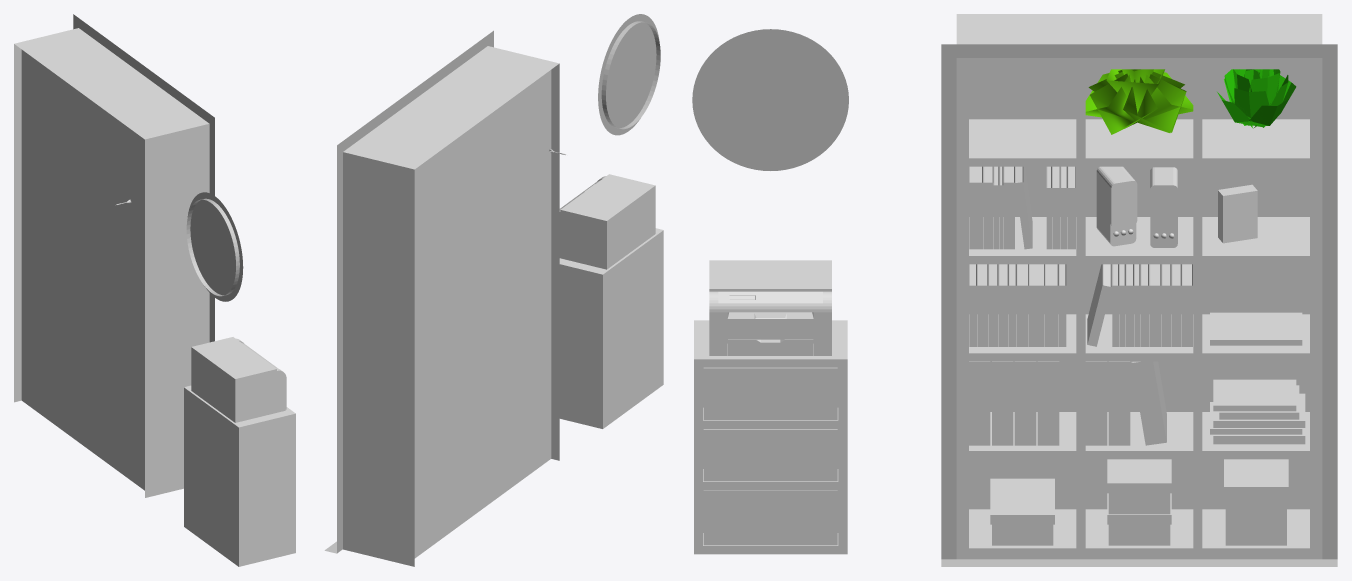
Rendered from Bookshelf.fbx.
3 renders of one model, left to right at view 1: azimuth 30°, elevation 25°; view 2: azimuth 150°, elevation 25°; view 3: azimuth 270°, elevation 25°, orthographic. The views are drawn at different scales.
Parts seen in each view (by area): view 1: Bookshelf, Drawer, Printer, Dartboard, Highlight, HighlightDartboard; view 2: Bookshelf, Drawer, Printer, Dartboard, Highlight, HighlightDartboard; view 3: Bookshelf, Drawer, Highlight, Dartboard, Printer, PlantSpikes, HighlightDartboard, PlantPine.
Part boxes in pixels (bbox=[...]): Bookshelf: bbox=[14, 28, 209, 497]; Drawer: bbox=[184, 385, 295, 566]; Printer: bbox=[191, 337, 286, 422]; Dartboard: bbox=[186, 198, 239, 296]; Highlight: bbox=[73, 14, 214, 342]; HighlightDartboard: bbox=[187, 192, 243, 301]; Bookshelf: bbox=[343, 46, 559, 566]; Drawer: bbox=[559, 228, 663, 428]; Printer: bbox=[559, 174, 655, 269]; Dartboard: bbox=[601, 21, 660, 129]; Highlight: bbox=[324, 30, 493, 553]; HighlightDartboard: bbox=[598, 14, 659, 135]; Bookshelf: bbox=[956, 14, 1322, 559]; Drawer: bbox=[694, 320, 847, 554]; Highlight: bbox=[941, 44, 1337, 566]; Dartboard: bbox=[701, 37, 839, 162]; Printer: bbox=[709, 260, 831, 355]; PlantSpikes: bbox=[1085, 69, 1193, 134]; HighlightDartboard: bbox=[692, 29, 848, 170]; PlantPine: bbox=[1217, 69, 1296, 128].
Size of the model in its own units: 0.5086 by 1.85 by 2.1.
